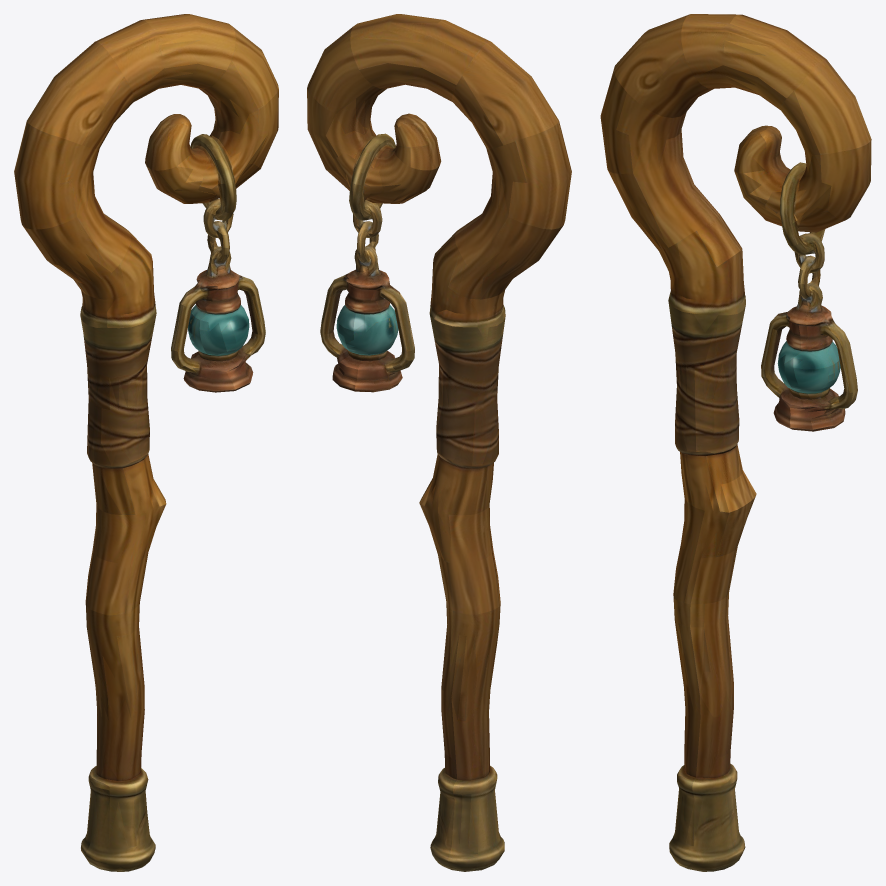
Rendered from npc_acc_lantern_cane.glb.
3 views of the same model, side by side, from view 1: azimuth 30°, elevation 25°; view 2: azimuth 150°, elevation 25°; view 3: azimuth 330°, elevation 25° (orthographic). The views are drawn at different scales.
Parts seen in each view (by area): view 1: output_unwrapped; view 2: output_unwrapped; view 3: output_unwrapped.
Boxes of the visible parts, x1,y1,x2,y2 form: output_unwrapped: [14, 14, 278, 871]; output_unwrapped: [307, 14, 571, 871]; output_unwrapped: [600, 14, 871, 871].
Size of the model in its own units: 0.3417 by 1.05 by 0.0899.
Materials: 1 (1 with a texture image).
